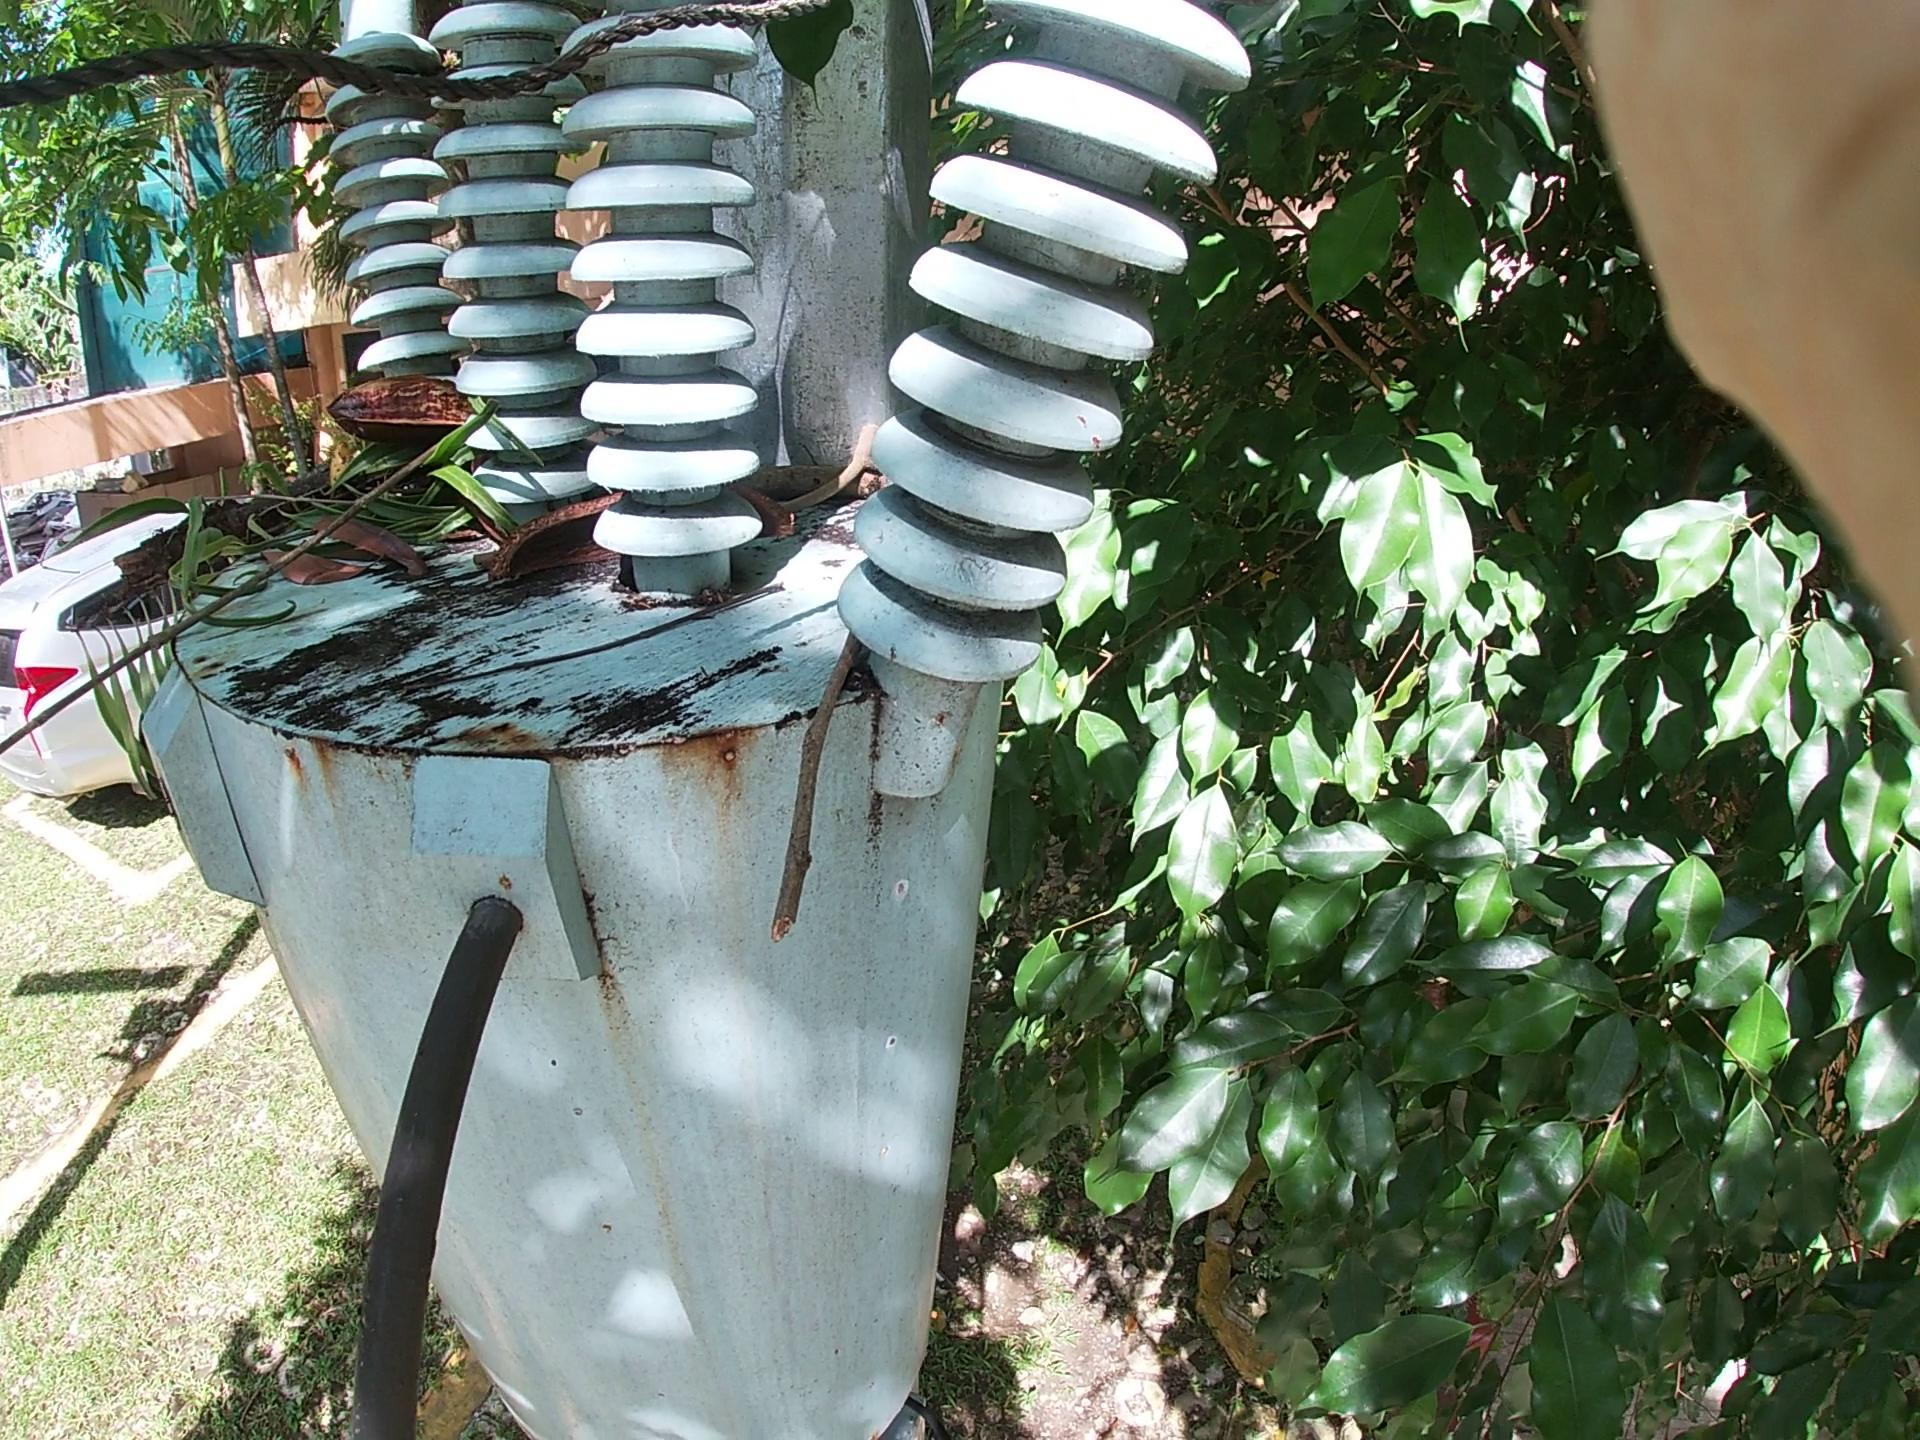branch with leaves: (32, 399, 878, 706)
leaf: (254, 486, 419, 588)
mahogany fruit: (466, 479, 797, 641), (324, 330, 469, 504)
tree branch: (36, 352, 584, 773), (692, 649, 853, 979), (742, 389, 934, 566)
